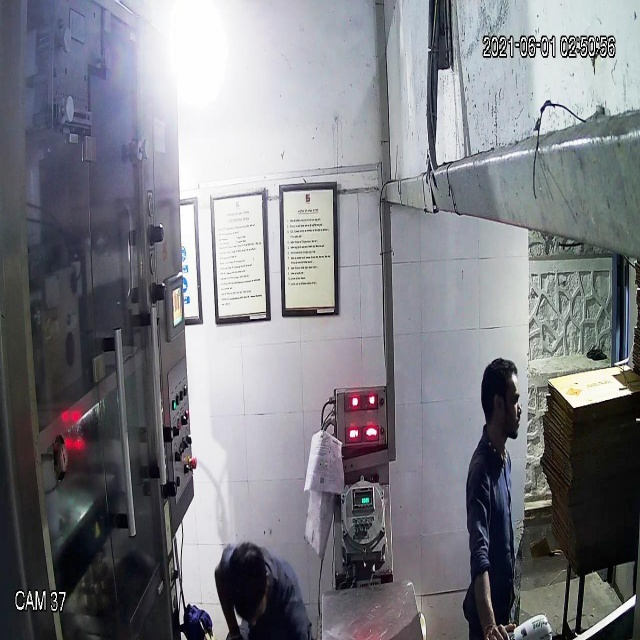Sin_gafas: (479, 385, 526, 419)
